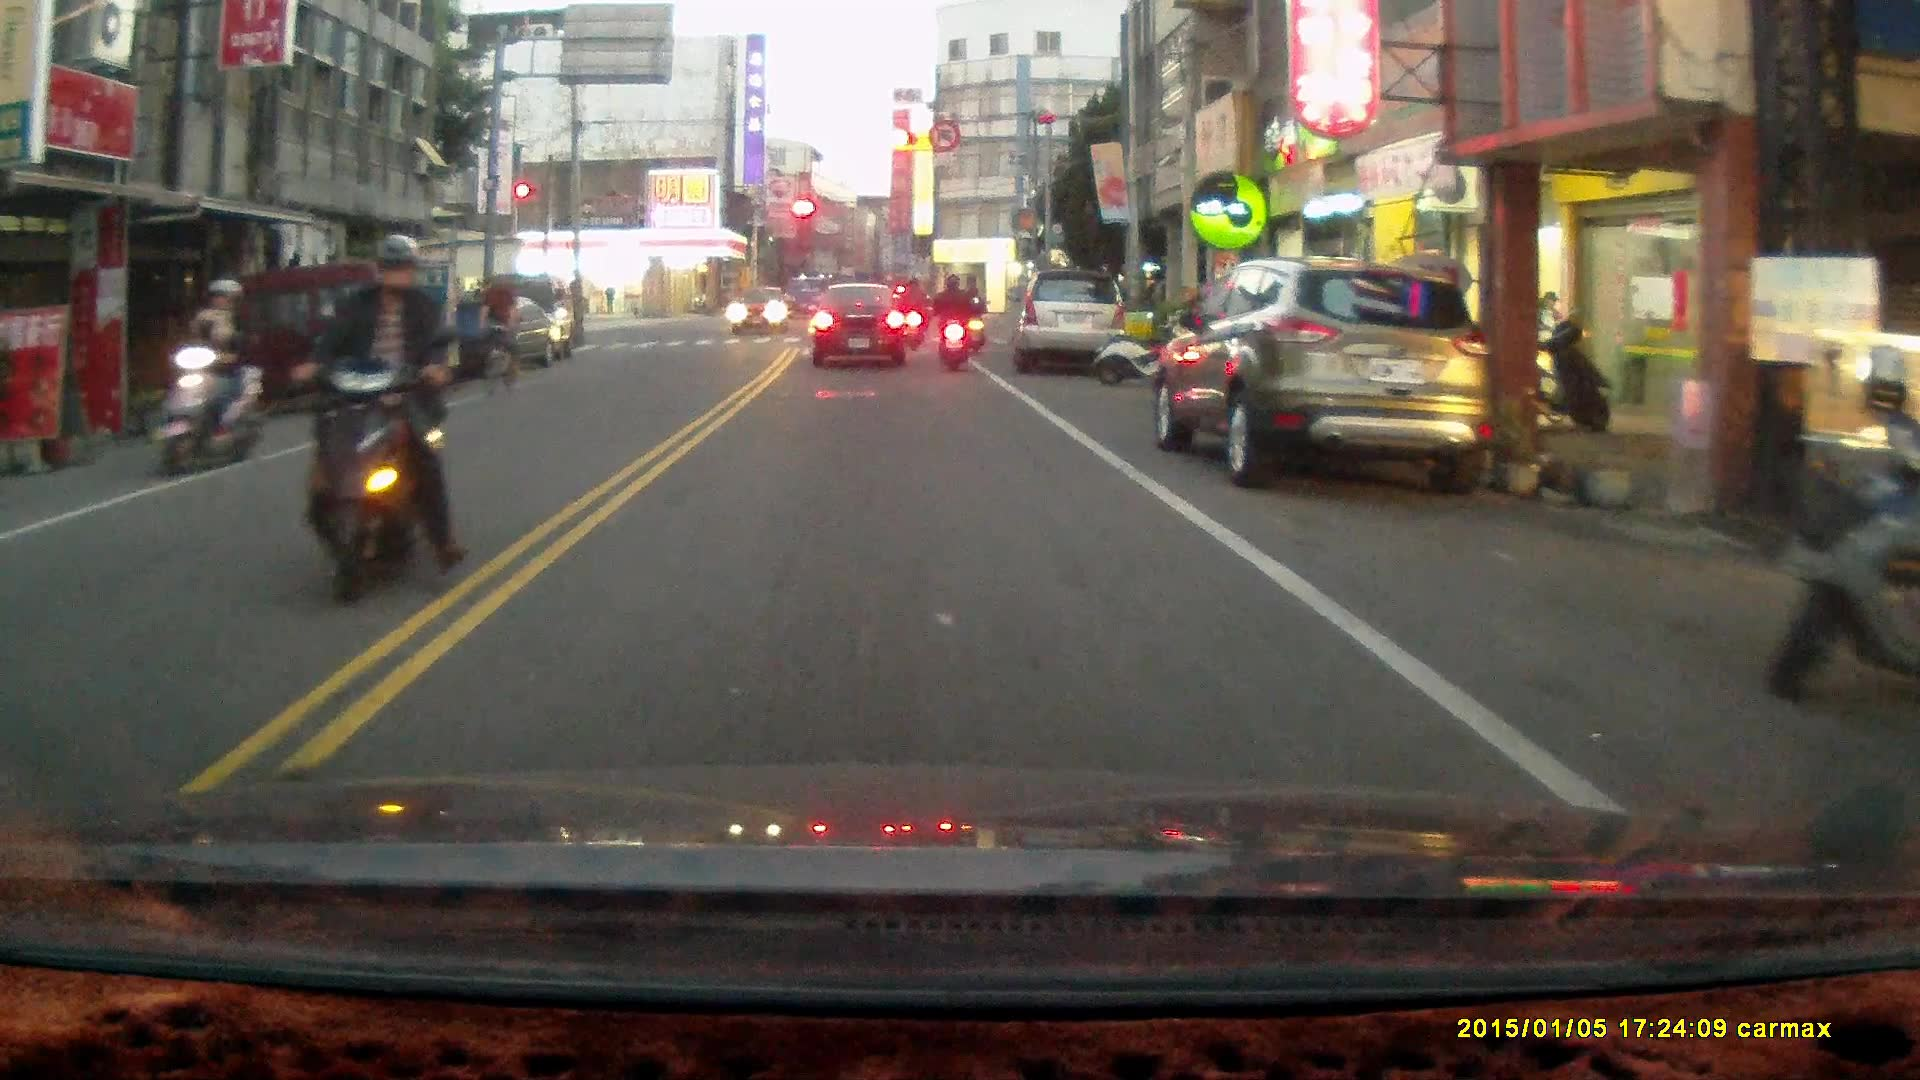rider: (280, 231, 465, 604), (155, 277, 266, 478), (476, 268, 521, 398), (928, 270, 975, 374), (896, 274, 928, 350), (960, 281, 987, 352)
vehicle: (1158, 255, 1488, 496), (1017, 270, 1131, 377), (814, 282, 913, 365), (722, 278, 786, 333)
